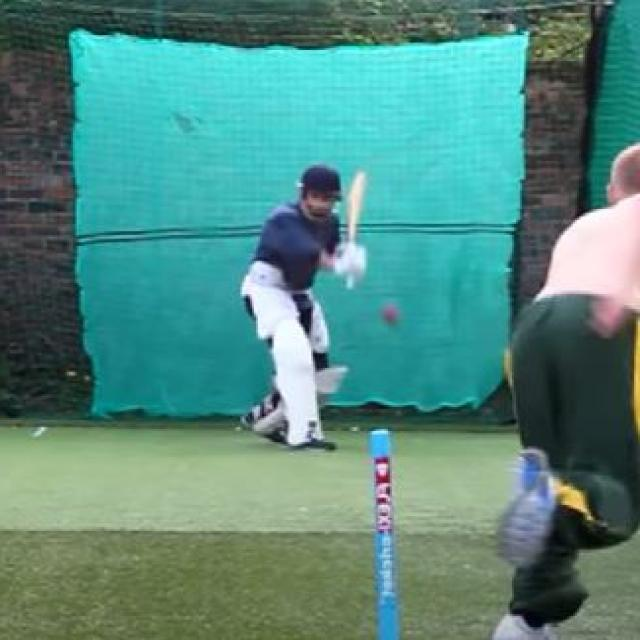ball: (370, 294, 405, 333)
